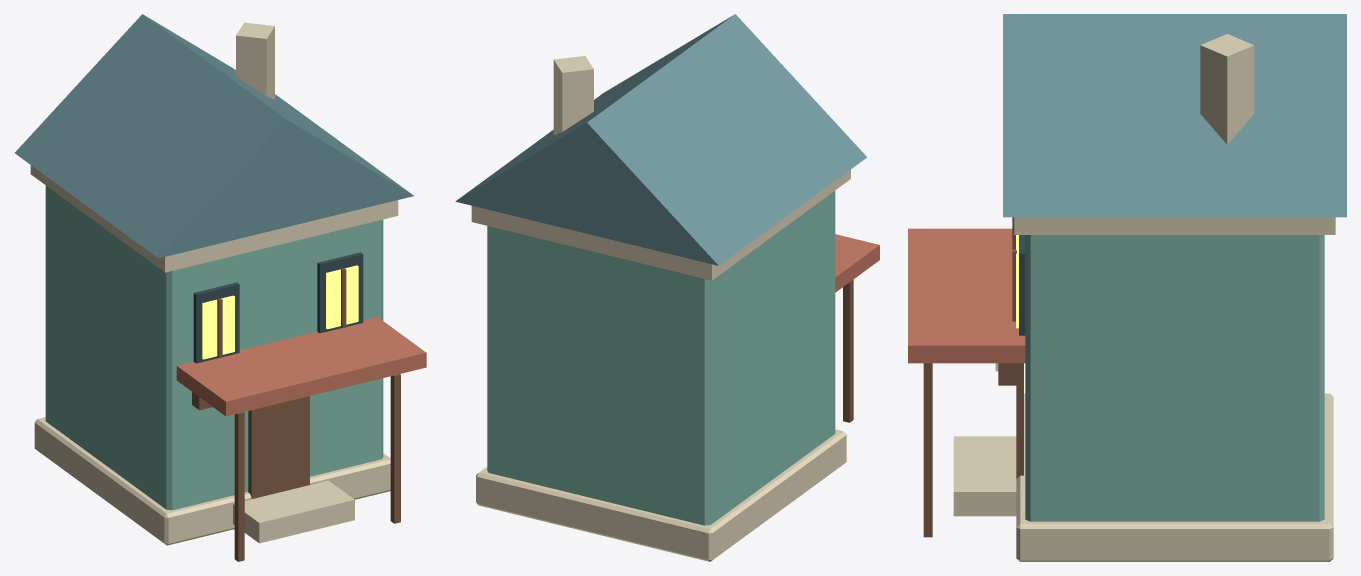
Rendered from bookshop.glb.
3 renders of one model, left to right at view 1: azimuth 30°, elevation 25°; view 2: azimuth 150°, elevation 25°; view 3: azimuth 270°, elevation 25°, orthographic. The views are drawn at different scales.
Parts seen in each view (by area): view 1: bookshop; view 2: bookshop; view 3: bookshop.
Part boxes in pixels (x1,y1,x2,y2): bookshop: (15, 14, 426, 561); bookshop: (455, 14, 879, 561); bookshop: (908, 14, 1346, 561).
Bounding box in the file's own units: 2.36 × 3.6 × 2.94.
